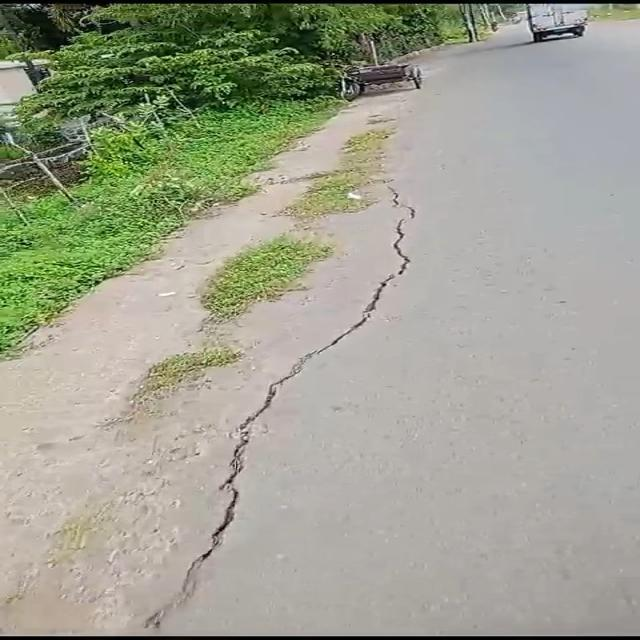Memanjang: (125, 175, 416, 640)
